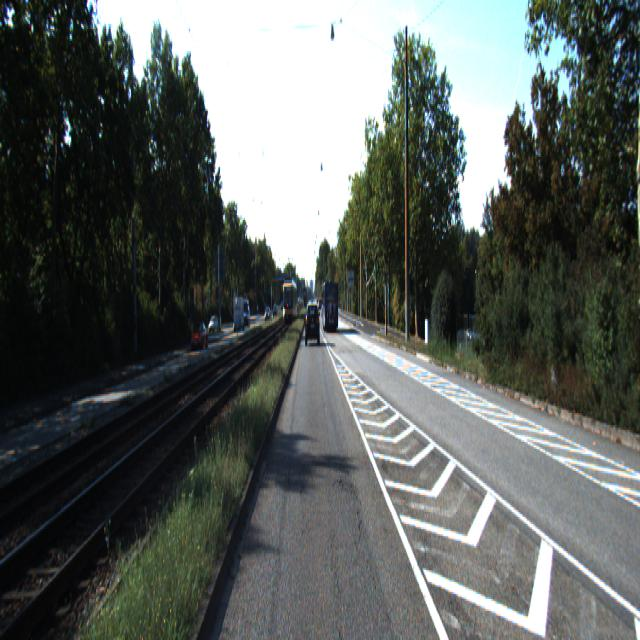Car: (322, 281, 338, 332), (306, 304, 319, 346), (191, 322, 208, 352)
